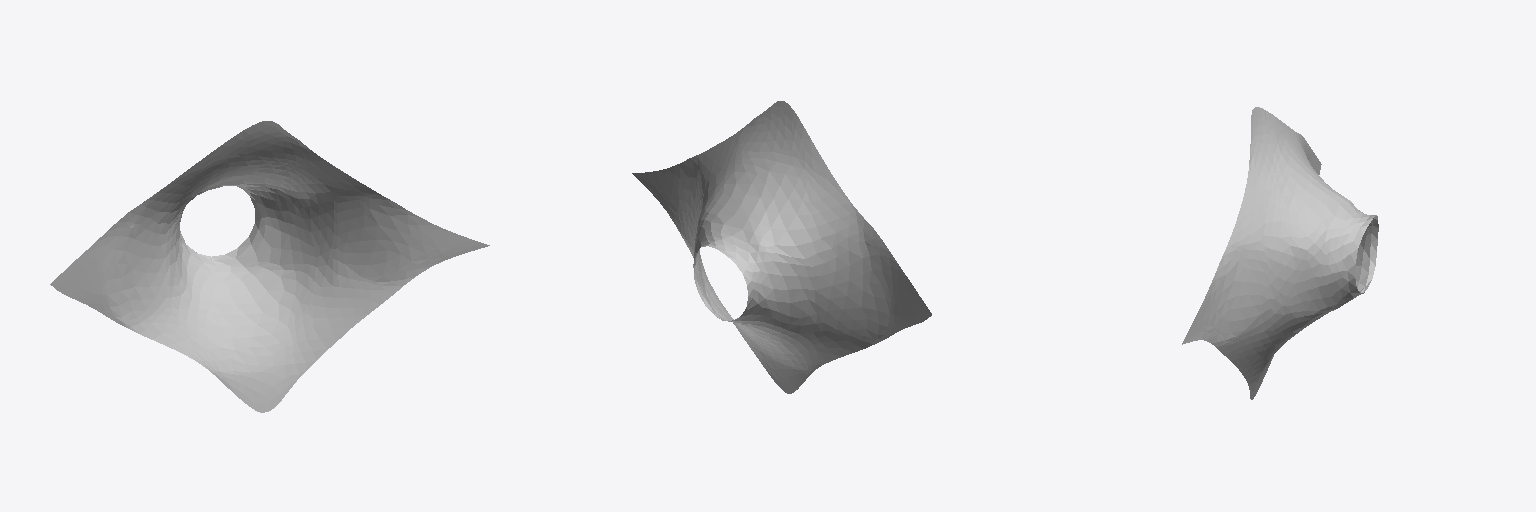
File: flower4_opt_deformed_(2).obj
3 views of the same model, side by side, from view 1: azimuth 30°, elevation 25°; view 2: azimuth 150°, elevation 25°; view 3: azimuth 270°, elevation 25° (orthographic).
Visible parts, largest first — view 1: samples/flower4_opt_deformed; view 2: samples/flower4_opt_deformed; view 3: samples/flower4_opt_deformed.
Part boxes in pixels (left/top/right/bottom): samples/flower4_opt_deformed: left=50, top=121, right=489, bottom=412; samples/flower4_opt_deformed: left=632, top=101, right=931, bottom=393; samples/flower4_opt_deformed: left=1182, top=107, right=1378, bottom=399.
Size of the model in its own units: 34.53 by 25.99 by 15.94.